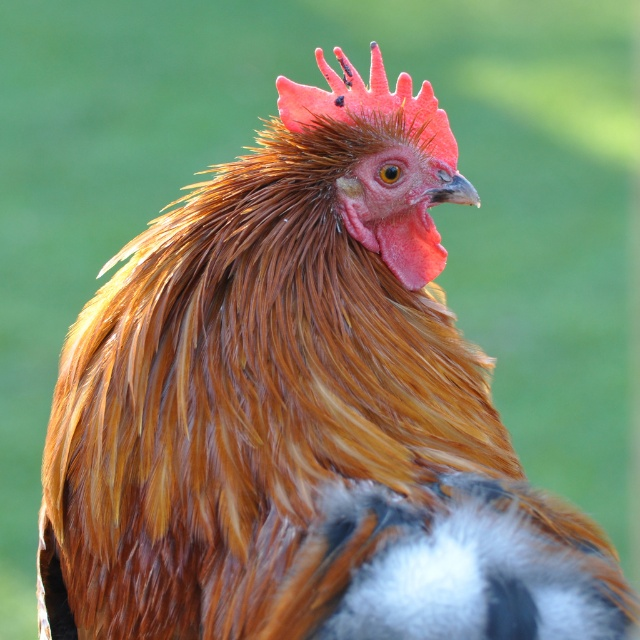Chicken: (36, 42, 640, 640)
